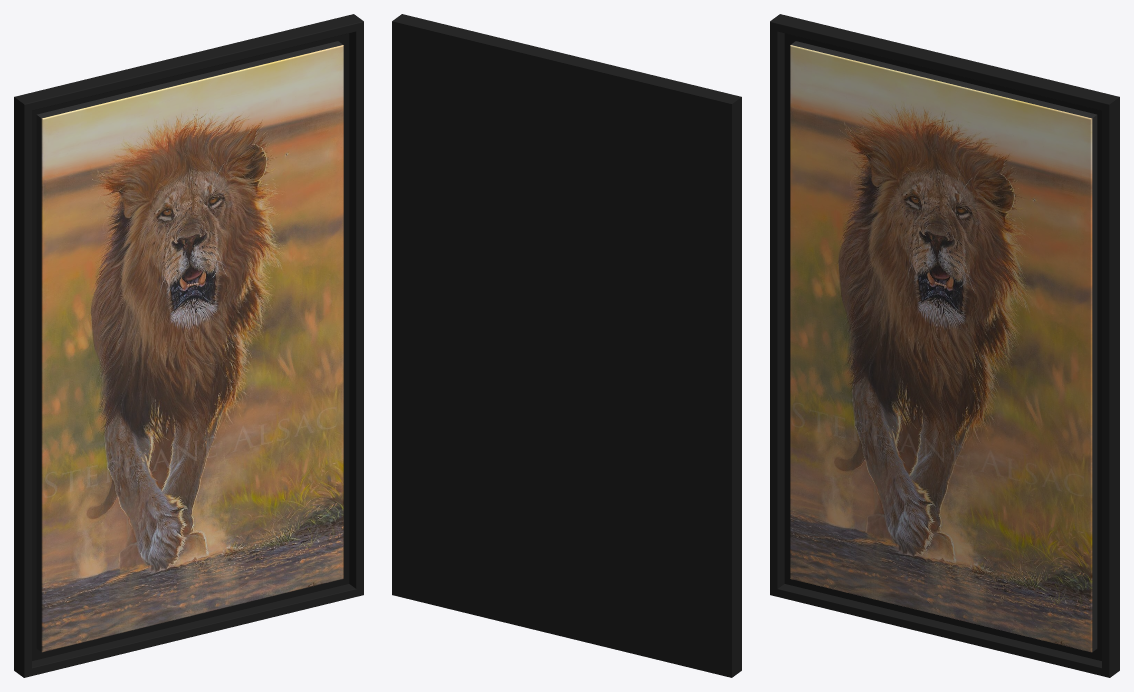
Rendered from grand-tableau-lion-grand-89a5f377.glb.
The picture shows the model from 3 angles, left to right: view 1: azimuth 30°, elevation 25°; view 2: azimuth 150°, elevation 25°; view 3: azimuth 330°, elevation 25°; orthographic projection.
Parts seen in each view (by area): view 1: Painting; view 2: Painting; view 3: Painting.
Part boxes in pixels (box(x1,y1,x2,y2)): Painting: box(14, 14, 363, 677); Painting: box(392, 14, 741, 677); Painting: box(770, 14, 1119, 677).
Bounding box in the file's own units: 0.766 × 1.24 × 0.04.
Materials: 4 (2 with a texture image).
